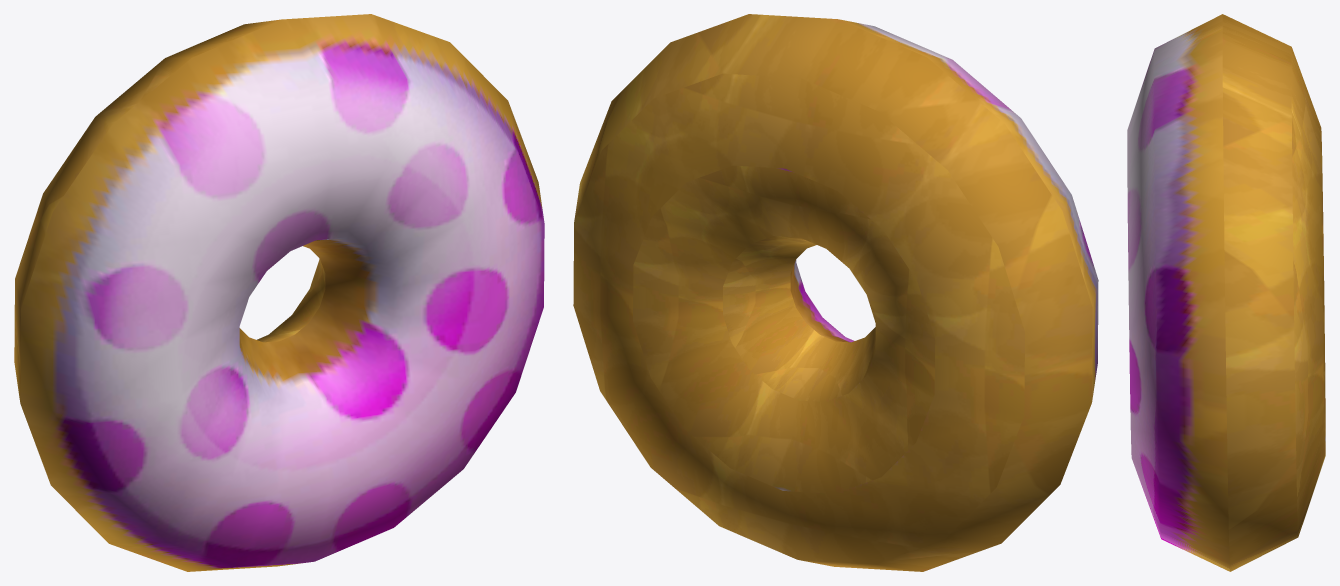
Rendered from bagel.fbx.
3 renders of one model, left to right at view 1: azimuth 30°, elevation 25°; view 2: azimuth 150°, elevation 25°; view 3: azimuth 270°, elevation 25°, orthographic. The views are drawn at different scales.
Parts seen in each view (by area): view 1: bagel_meshout; view 2: bagel_meshout; view 3: bagel_meshout.
Part boxes in pixels (box(x1,y1,x2,y2)): bagel_meshout: box(14, 14, 544, 571); bagel_meshout: box(573, 14, 1098, 571); bagel_meshout: box(1127, 14, 1325, 571).
Bounding box in the file's own units: 2917 × 2961 × 1050.
Materials: 1 (1 with a texture image).
